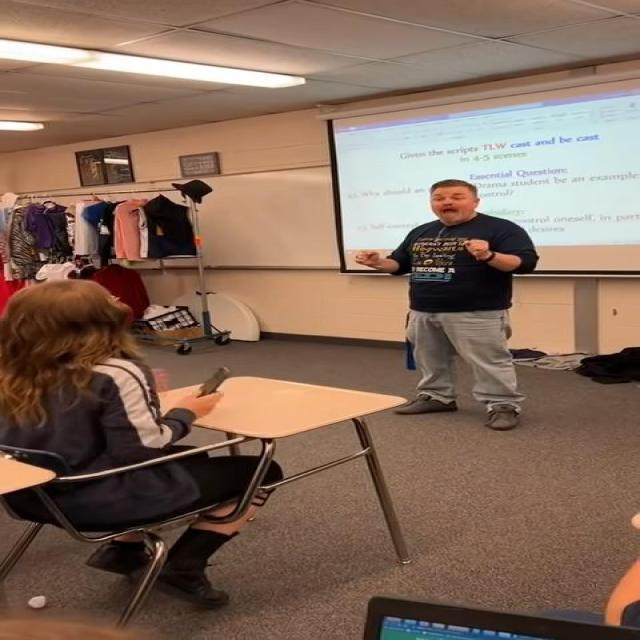NO-Mask: (431, 185, 477, 226)
